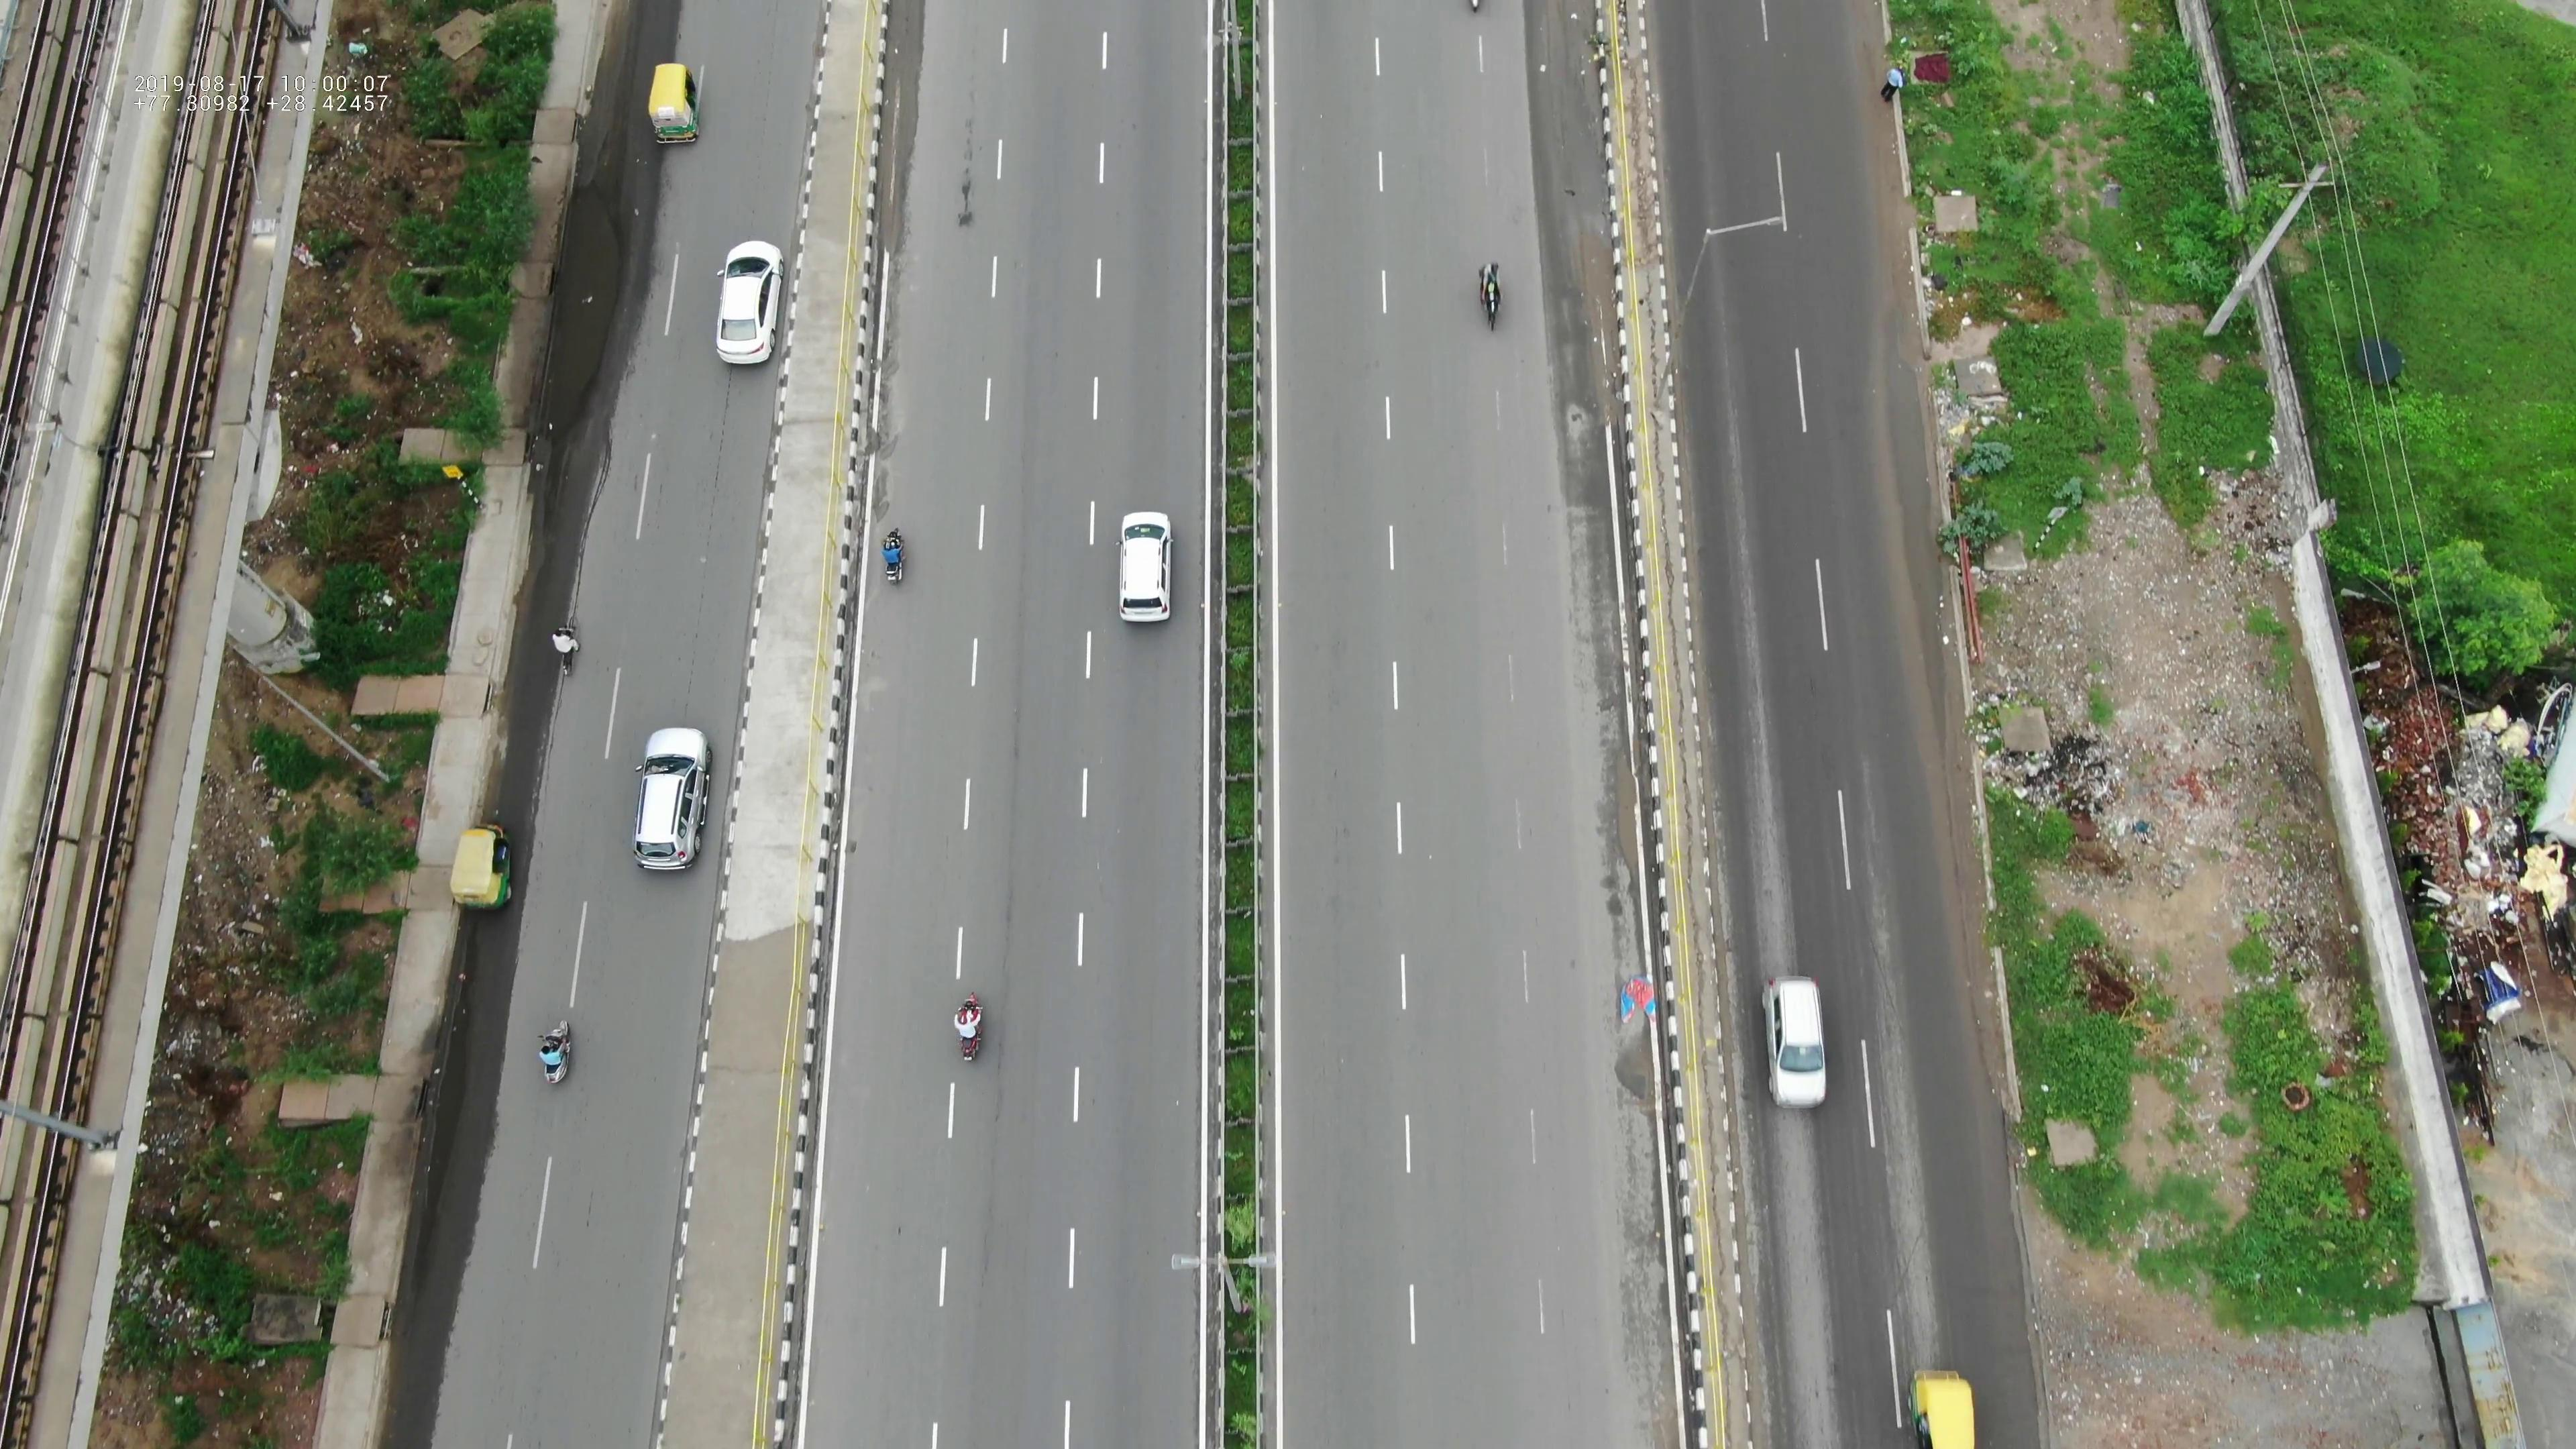Muddy_road: (1934, 872, 2005, 1079), (1568, 221, 1631, 441), (1599, 745, 1654, 897), (1870, 126, 1921, 280)
Waterlogging: (1879, 280, 1971, 766), (540, 179, 633, 437), (412, 1035, 474, 1214)
